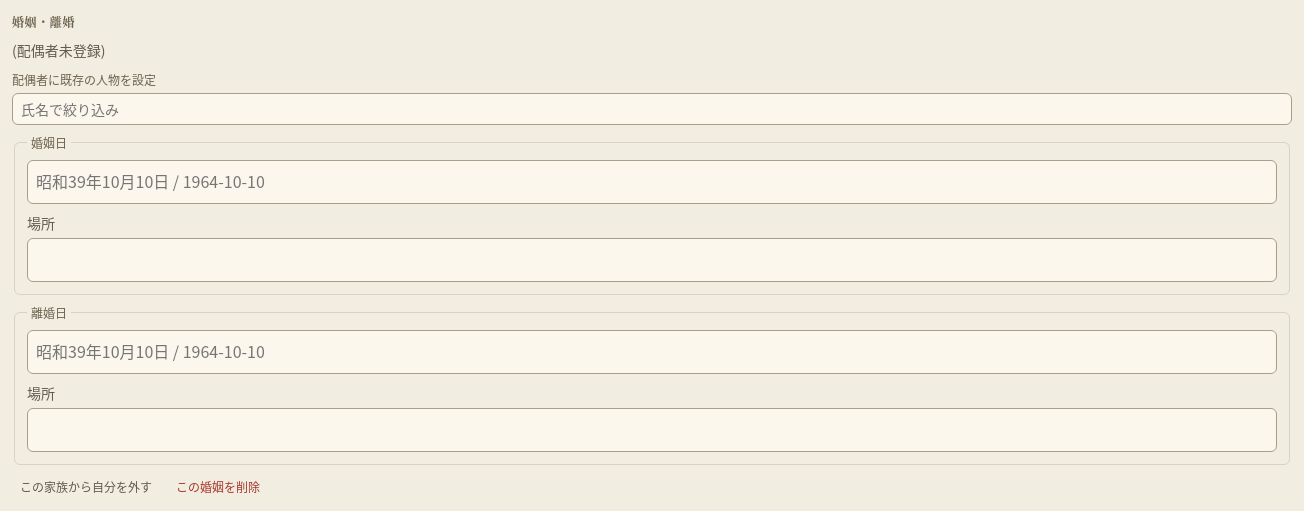
Test: FamilyEventEditor: 配偶者が未登録の家族への紐づけ › 候補を選ぶと確定操作なしで配偶者として反映される
Type "X" into the dropdown labelled "配偶者に既存の人物を設定" at (652, 109), box [12,93,1292,125]
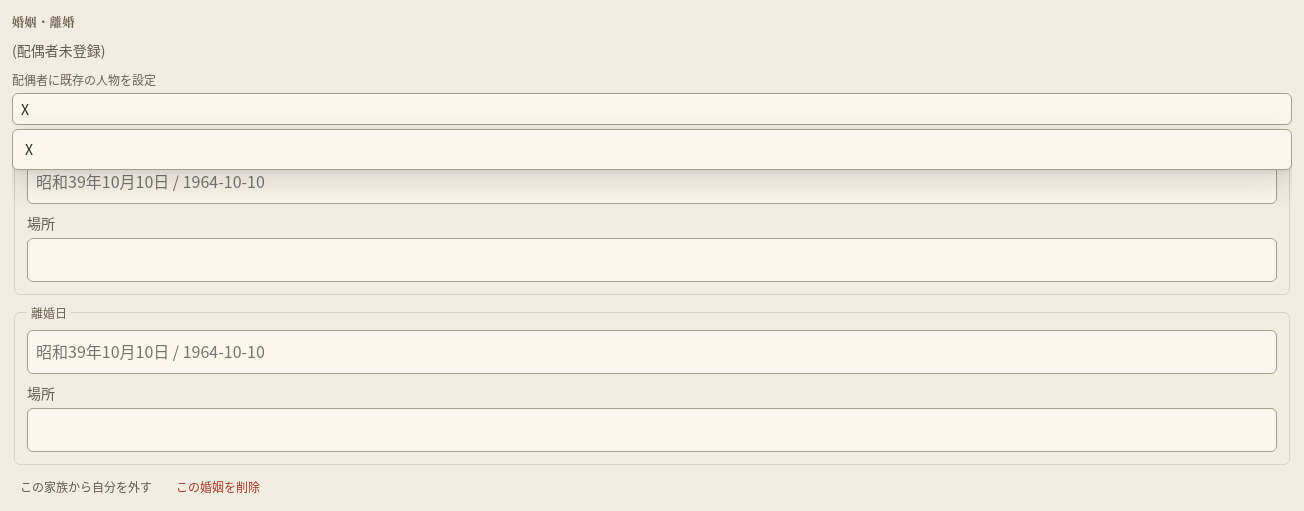
Click the option "X" at (29, 149), box [25,139,33,159]
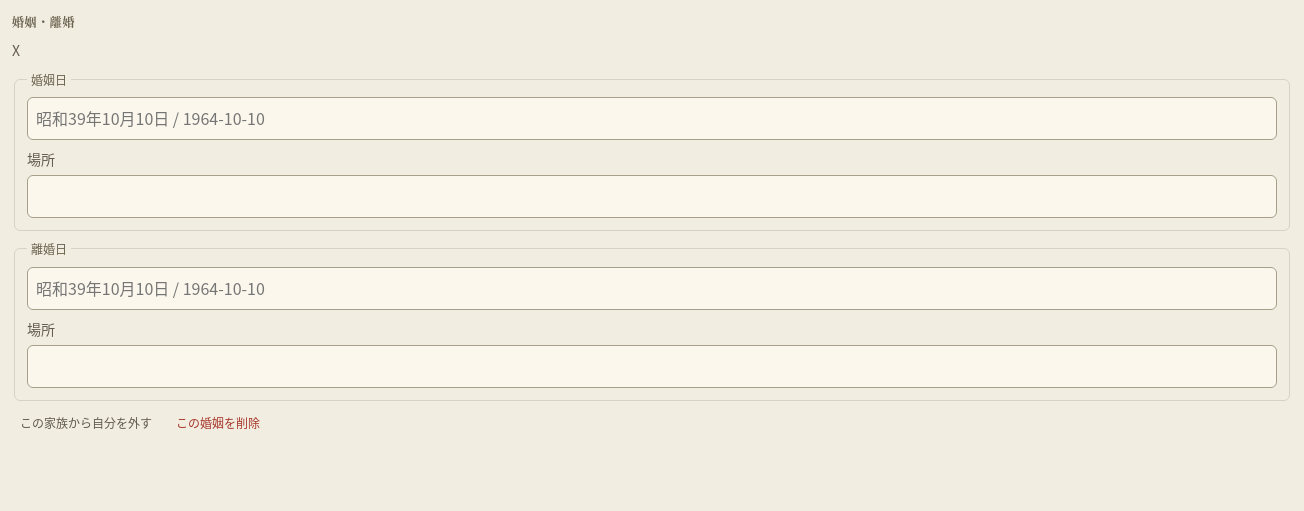
Now the text "X" is shown, box [12,40,20,60]
Now the label labelled "配偶者に既存の人物を設定" is gone
